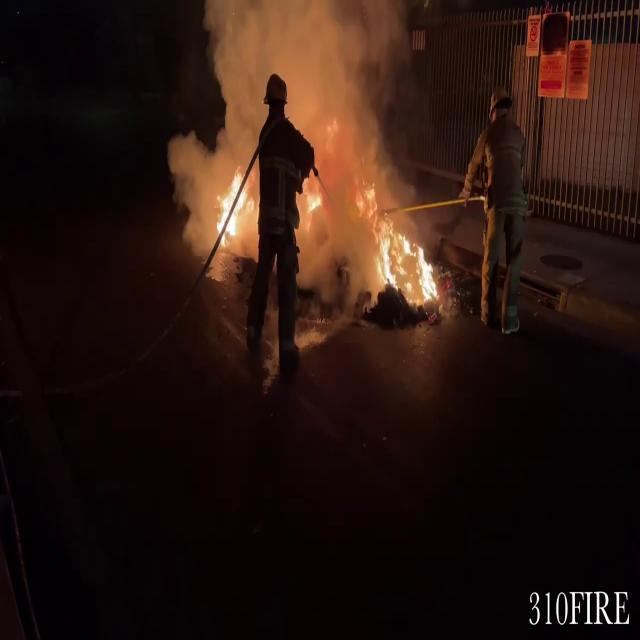Fire: (358, 182, 442, 313), (210, 158, 252, 248)
Smoke: (202, 0, 426, 153)
